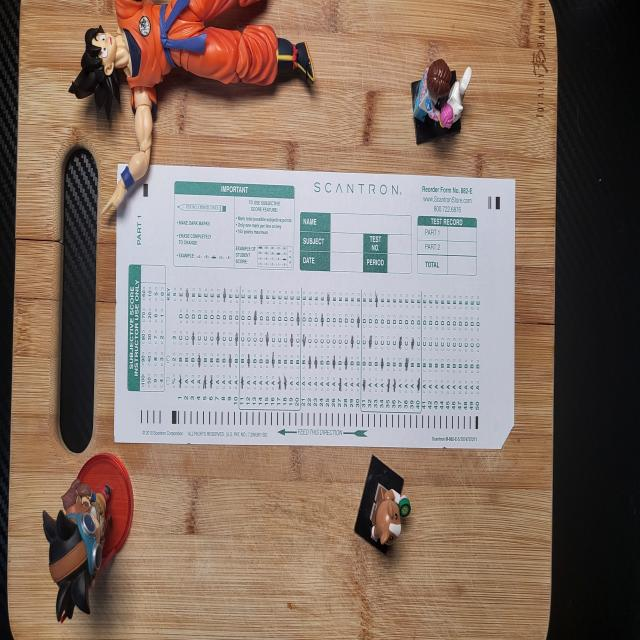scantron: (114, 162, 515, 450)
